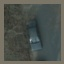car: (25, 19, 42, 52)
